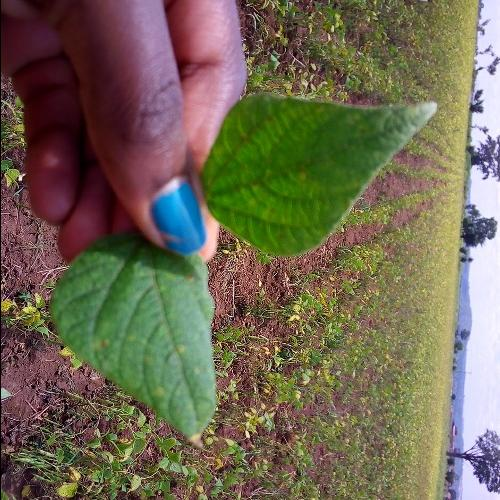mozaik: (240, 120, 333, 218), (92, 274, 187, 364)
